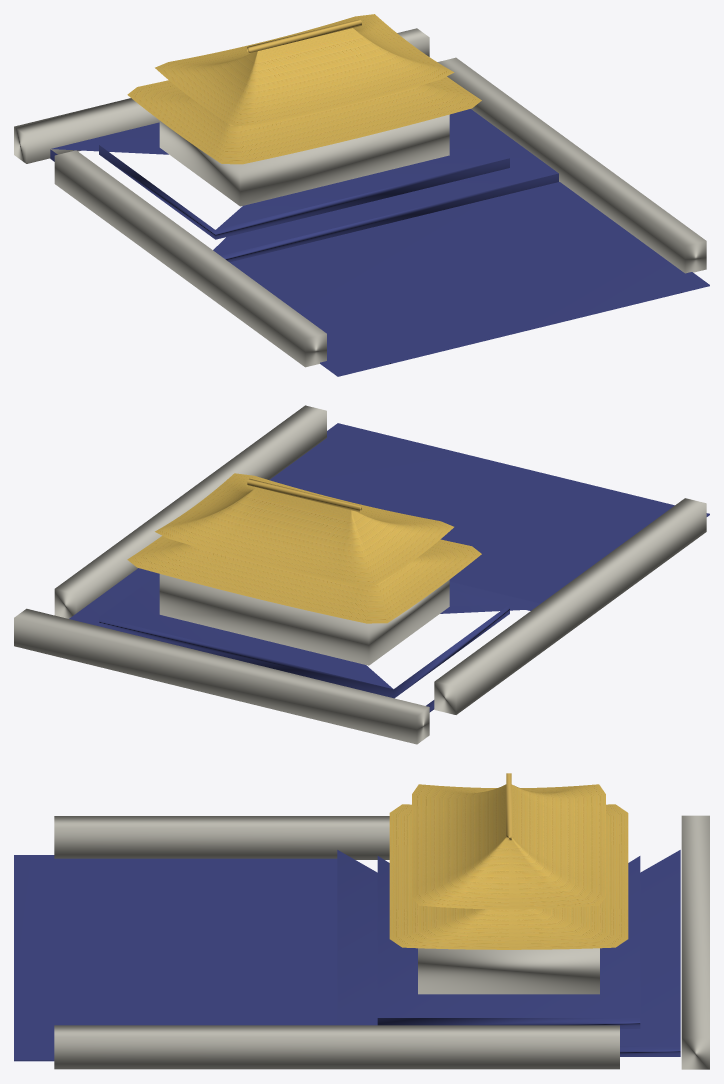
3 renders of one model, top to bottom at view 1: azimuth 30°, elevation 25°; view 2: azimuth 150°, elevation 25°; view 3: azimuth 270°, elevation 25°, orthographic. The views are drawn at different scales.
Parts seen in each view (by area): view 1: courtyard_and_corridors_simplified, roof_paljak_simplified, woldae_2tier_simplified, hall_body_simplified; view 2: courtyard_and_corridors_simplified, roof_paljak_simplified, woldae_2tier_simplified, hall_body_simplified; view 3: courtyard_and_corridors_simplified, roof_paljak_simplified, woldae_2tier_simplified, hall_body_simplified.
Boxes of the visible parts, box(x1,y1,x2,y2) form: courtyard_and_corridors_simplified: box(14, 28, 709, 376); roof_paljak_simplified: box(127, 14, 481, 164); woldae_2tier_simplified: box(50, 109, 558, 262); hall_body_simplified: box(159, 114, 449, 206); courtyard_and_corridors_simplified: box(14, 405, 709, 744); roof_paljak_simplified: box(127, 473, 481, 623); woldae_2tier_simplified: box(69, 568, 540, 712); hall_body_simplified: box(159, 574, 449, 665); courtyard_and_corridors_simplified: box(14, 815, 709, 1069); roof_paljak_simplified: box(389, 773, 628, 949); woldae_2tier_simplified: box(337, 850, 680, 1056); hall_body_simplified: box(418, 948, 599, 994).
Size of the model in its own units: 52 by 16.88 by 68.9.
3 materials, 3 textured.
